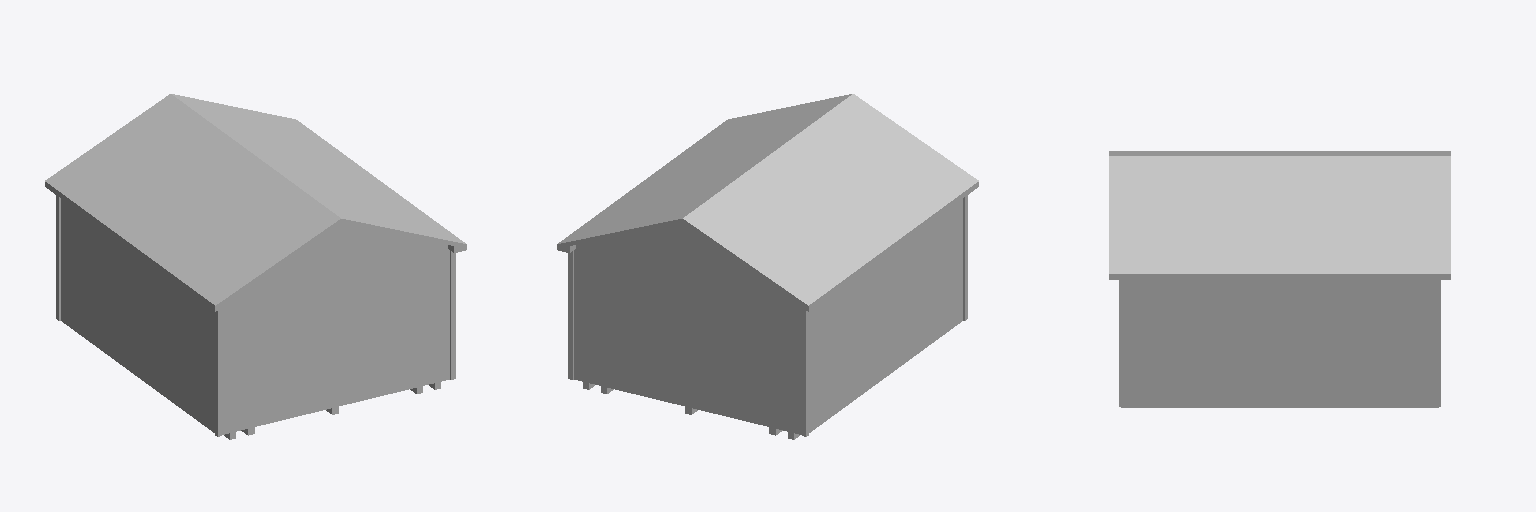
The model's file is Classic A-Frame_12x14.obj.
3 views of the same model, side by side, from view 1: azimuth 30°, elevation 25°; view 2: azimuth 150°, elevation 25°; view 3: azimuth 270°, elevation 25° (orthographic).
Visible parts, largest first — view 1: Classic A-Frame_12x14.obj; view 2: Classic A-Frame_12x14.obj; view 3: Classic A-Frame_12x14.obj.
Boxes of the visible parts, x1,y1,x2,y2 form: Classic A-Frame_12x14.obj: [45, 94, 466, 439]; Classic A-Frame_12x14.obj: [557, 94, 978, 439]; Classic A-Frame_12x14.obj: [1109, 151, 1450, 407].
Size of the model in its own units: 3.9 by 2.96 by 4.57.